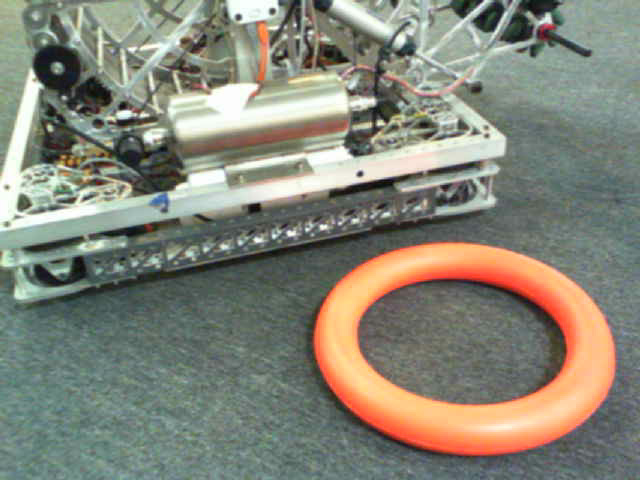Note: (317, 246, 621, 453)
Robot: (14, 4, 570, 314)
